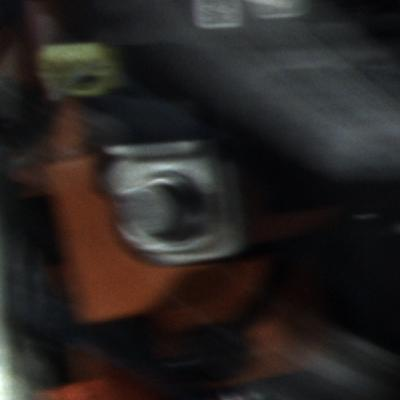nut_b: (120, 171, 204, 253)
